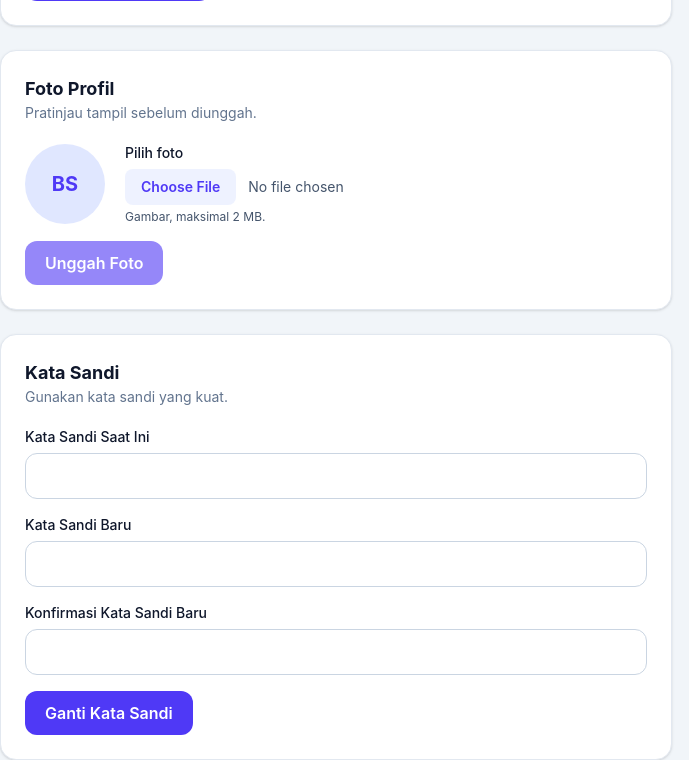
Test case: ProfilePage › form kata sandi › menolak kata sandi baru kurang dari 6 karakter
The image size is (689, 760).
(page scrolled)
Type "lama123" into the password field labelled "Kata Sandi Saat Ini" at {"x": 336, "y": 476}, box [25,453,647,499]
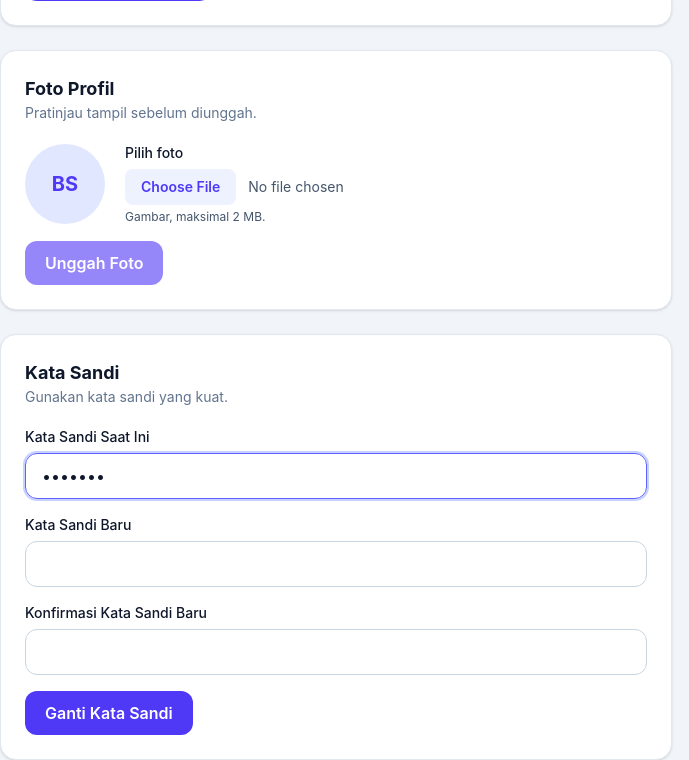
Type "123" into the password field labelled "Kata Sandi Baru" at {"x": 336, "y": 564}, box [25,541,647,587]
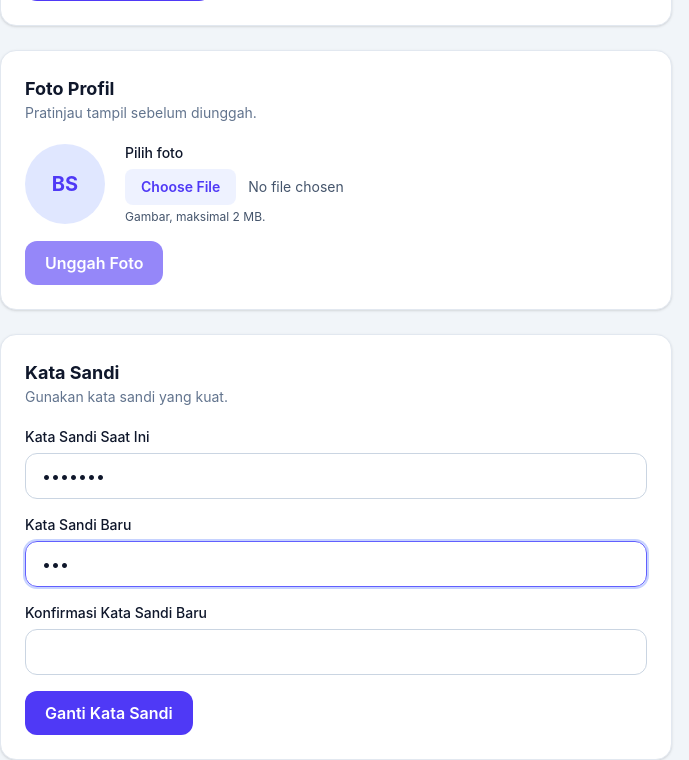
Type "123" into the password field labelled "Konfirmasi Kata Sandi Baru" at {"x": 336, "y": 652}, box [25,629,647,675]
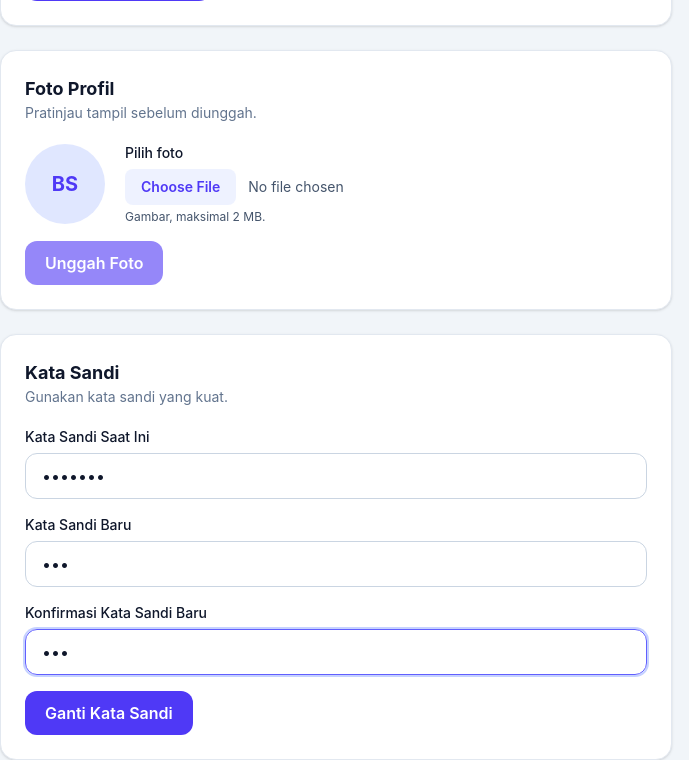
Click the button "Ganti Kata Sandi" at {"x": 109, "y": 713}, box [25,691,193,735]
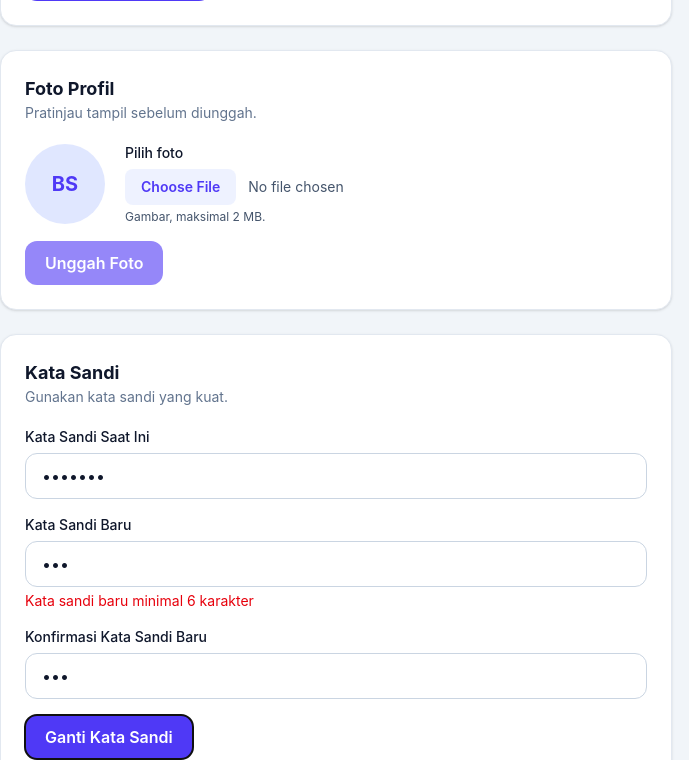
Now the text "Kata sandi baru minimal 6 karakter" is shown, box [25,592,254,609]
